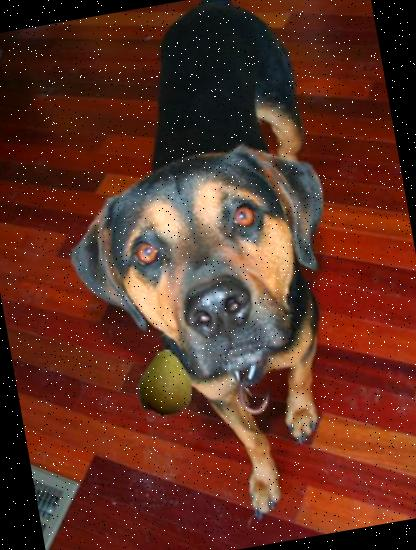Pear: (127, 344, 203, 420)
